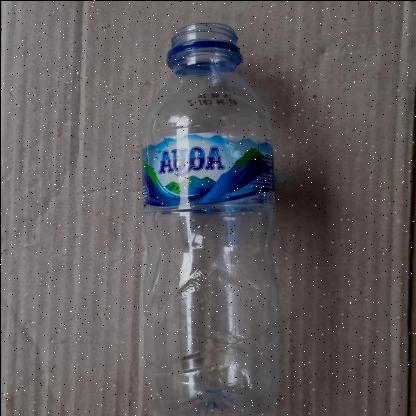Plastic Bottle: (141, 20, 278, 416)
